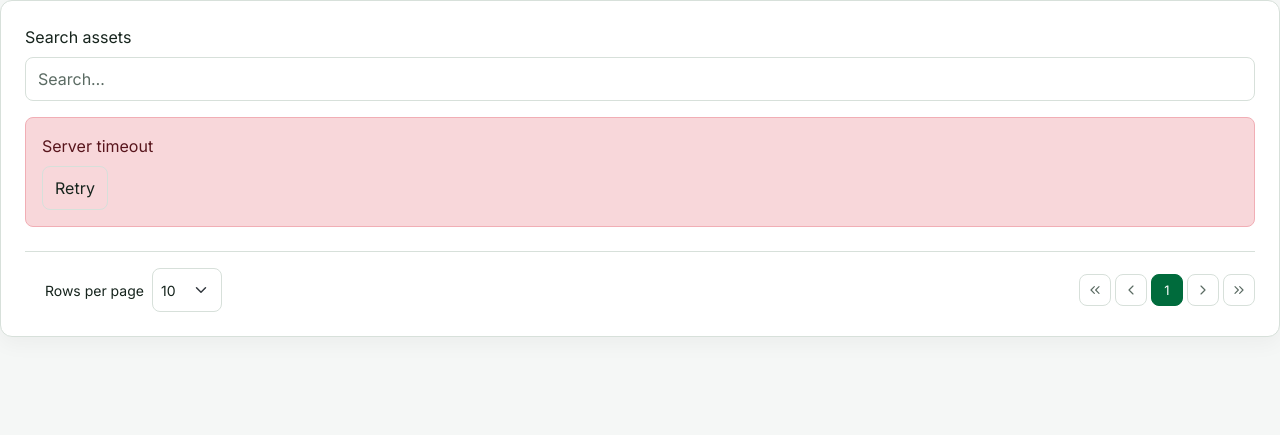
Test: DataTable Component @issue-6 › renders error state with retry button on fetch failure
Expected: the text "Server timeout" is shown, [42,136,153,156]
Step 1. Click the button "Retry" → (75, 188), box [42,166,108,210]
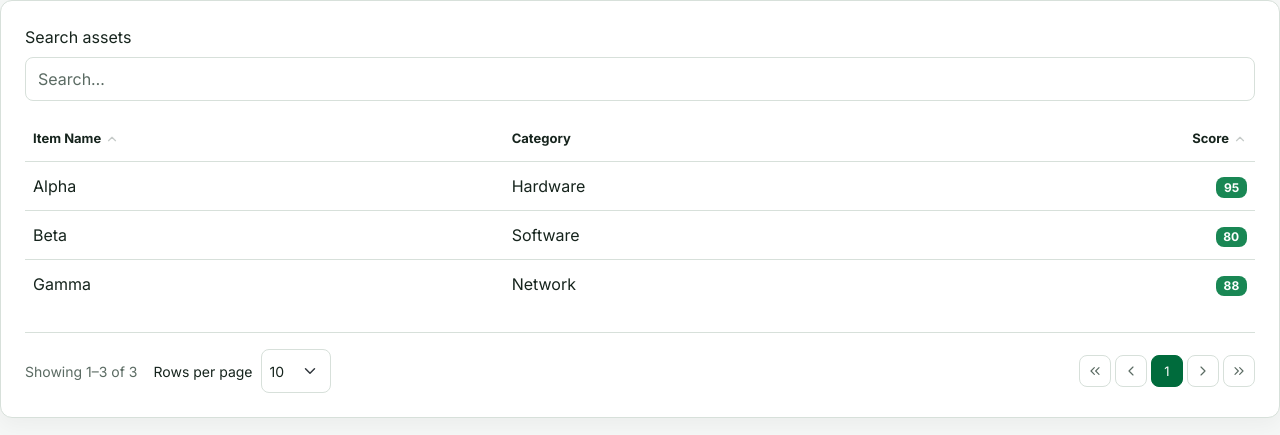
Expected: the text "Alpha" is shown, [25,161,504,210]
